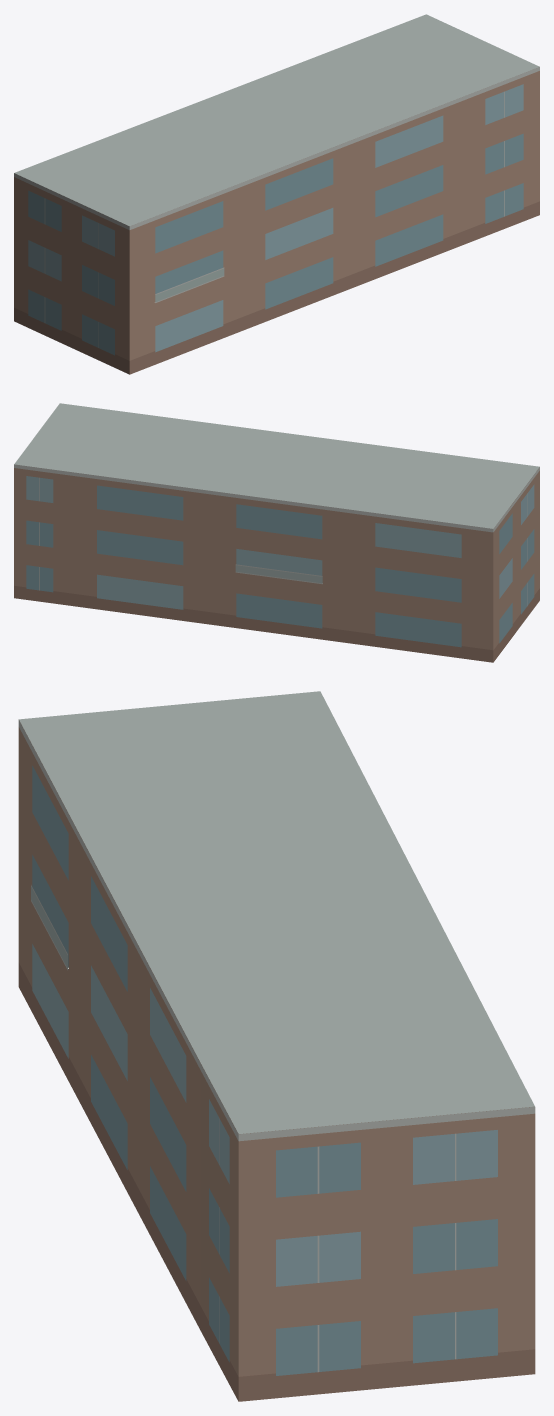
The model's file is survey-upis-32624352.glb.
The picture shows the model from 3 angles, top to bottom: view 1: azimuth 30°, elevation 25°; view 2: azimuth 150°, elevation 25°; view 3: azimuth 270°, elevation 25°; orthographic projection. The views are drawn at different scales.
Parts seen in each view (by area): view 1: survey-upis-32624352.tmp; view 2: survey-upis-32624352.tmp; view 3: survey-upis-32624352.tmp.
Boxes of the visible parts, x1,y1,x2,y2 form: survey-upis-32624352.tmp: (14,14,539,374); survey-upis-32624352.tmp: (14,403,539,662); survey-upis-32624352.tmp: (18,691,535,1401).
Size of the model in its own units: 32.5 by 9.15 by 16.02.
